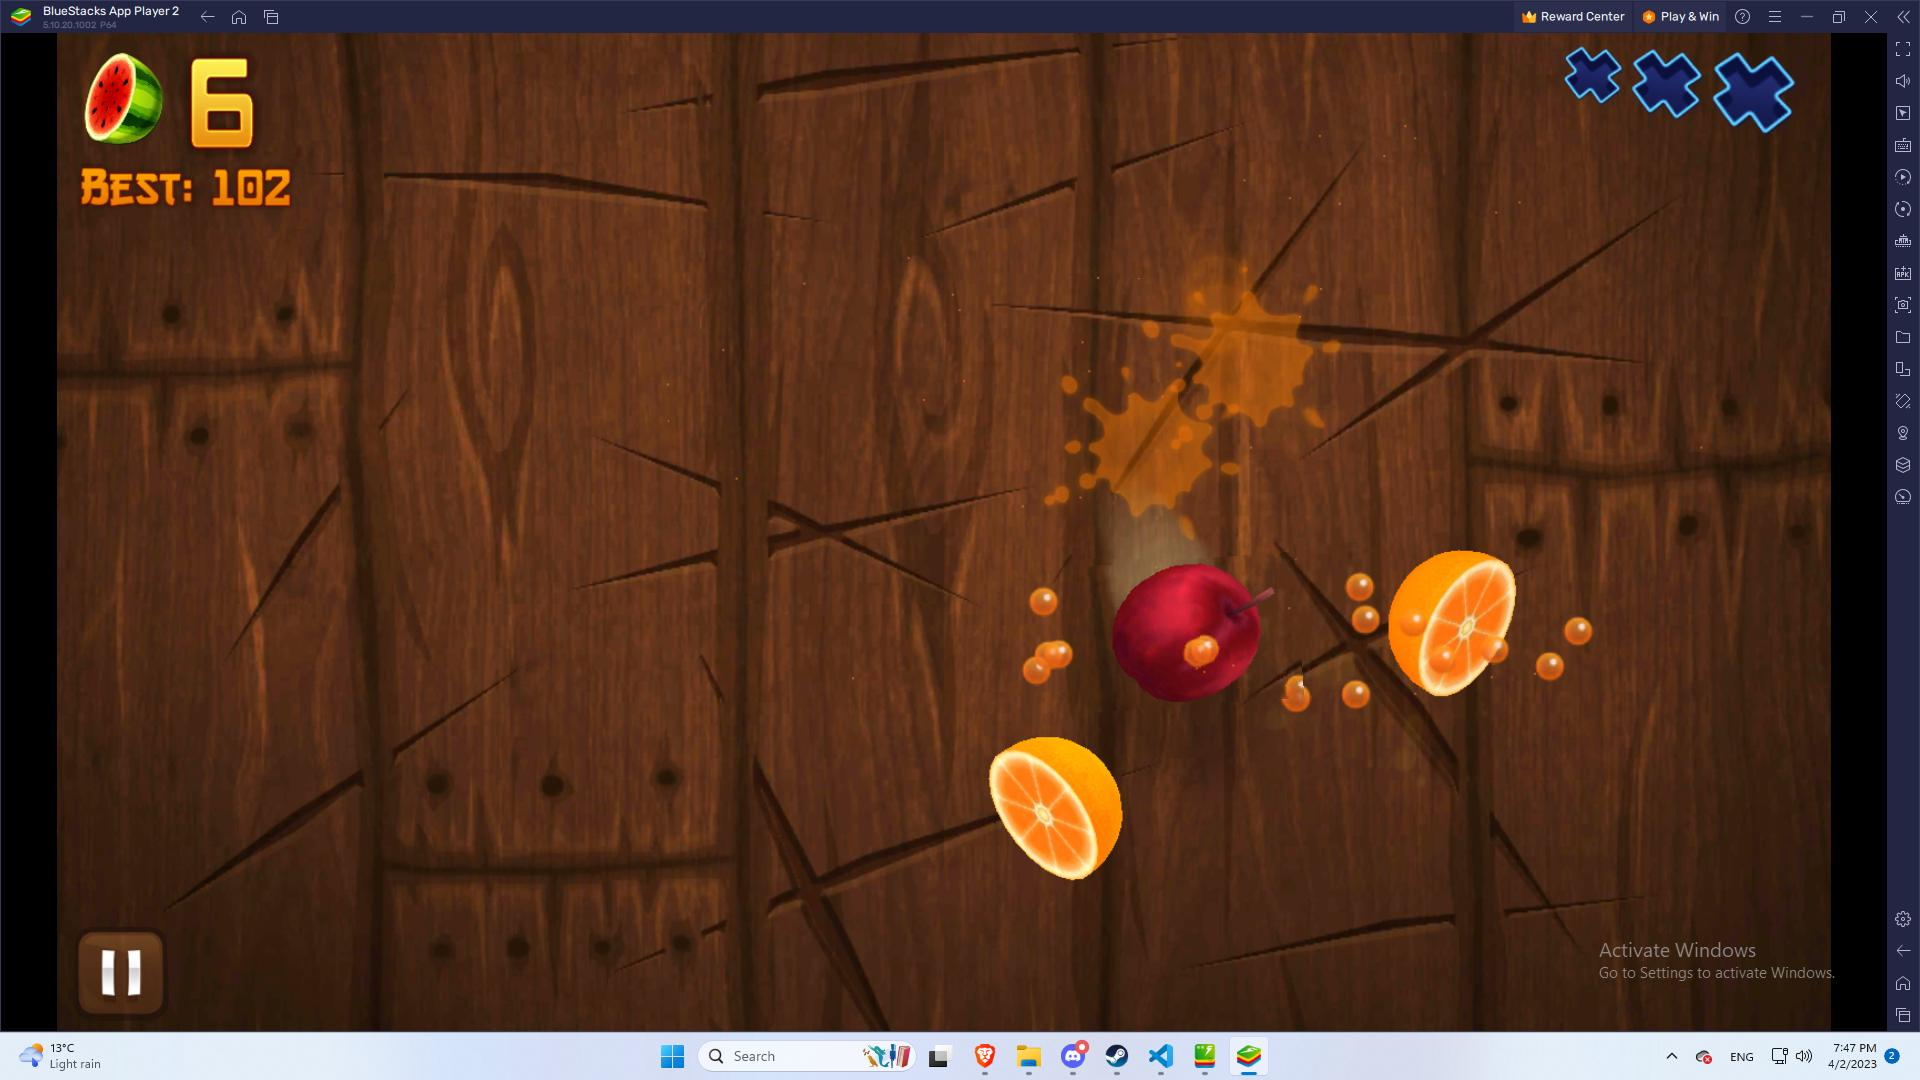fruit: (1084, 556, 1302, 709)
